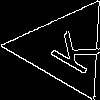K: (40, 23, 100, 77)
